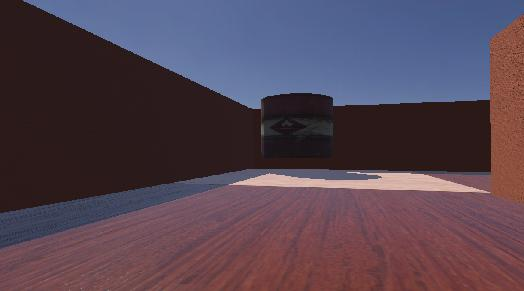OilBarrel: (250, 83, 346, 184)
